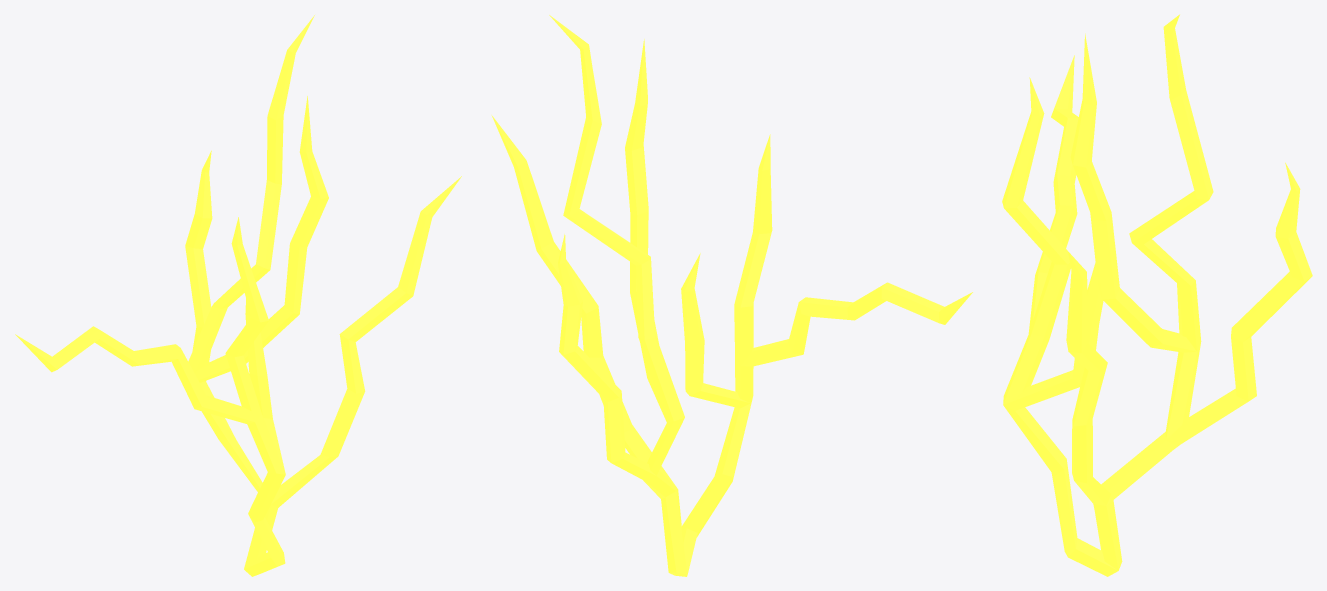
Rendered from lightning.glb.
3 renders of one model, left to right at view 1: azimuth 30°, elevation 25°; view 2: azimuth 150°, elevation 25°; view 3: azimuth 270°, elevation 25°, orthographic. The views are drawn at different scales.
Parts seen in each view (by area): view 1: Object_4; view 2: Object_4; view 3: Object_4.
Boxes of the visible parts, x1=… form: Object_4: x1=15, y1=15, x2=461, y2=576; Object_4: x1=491, y1=15, x2=972, y2=576; Object_4: x1=1002, y1=14, x2=1312, y2=576.
Bounding box in the file's own units: 1.88 × 2.08 × 0.9559.
